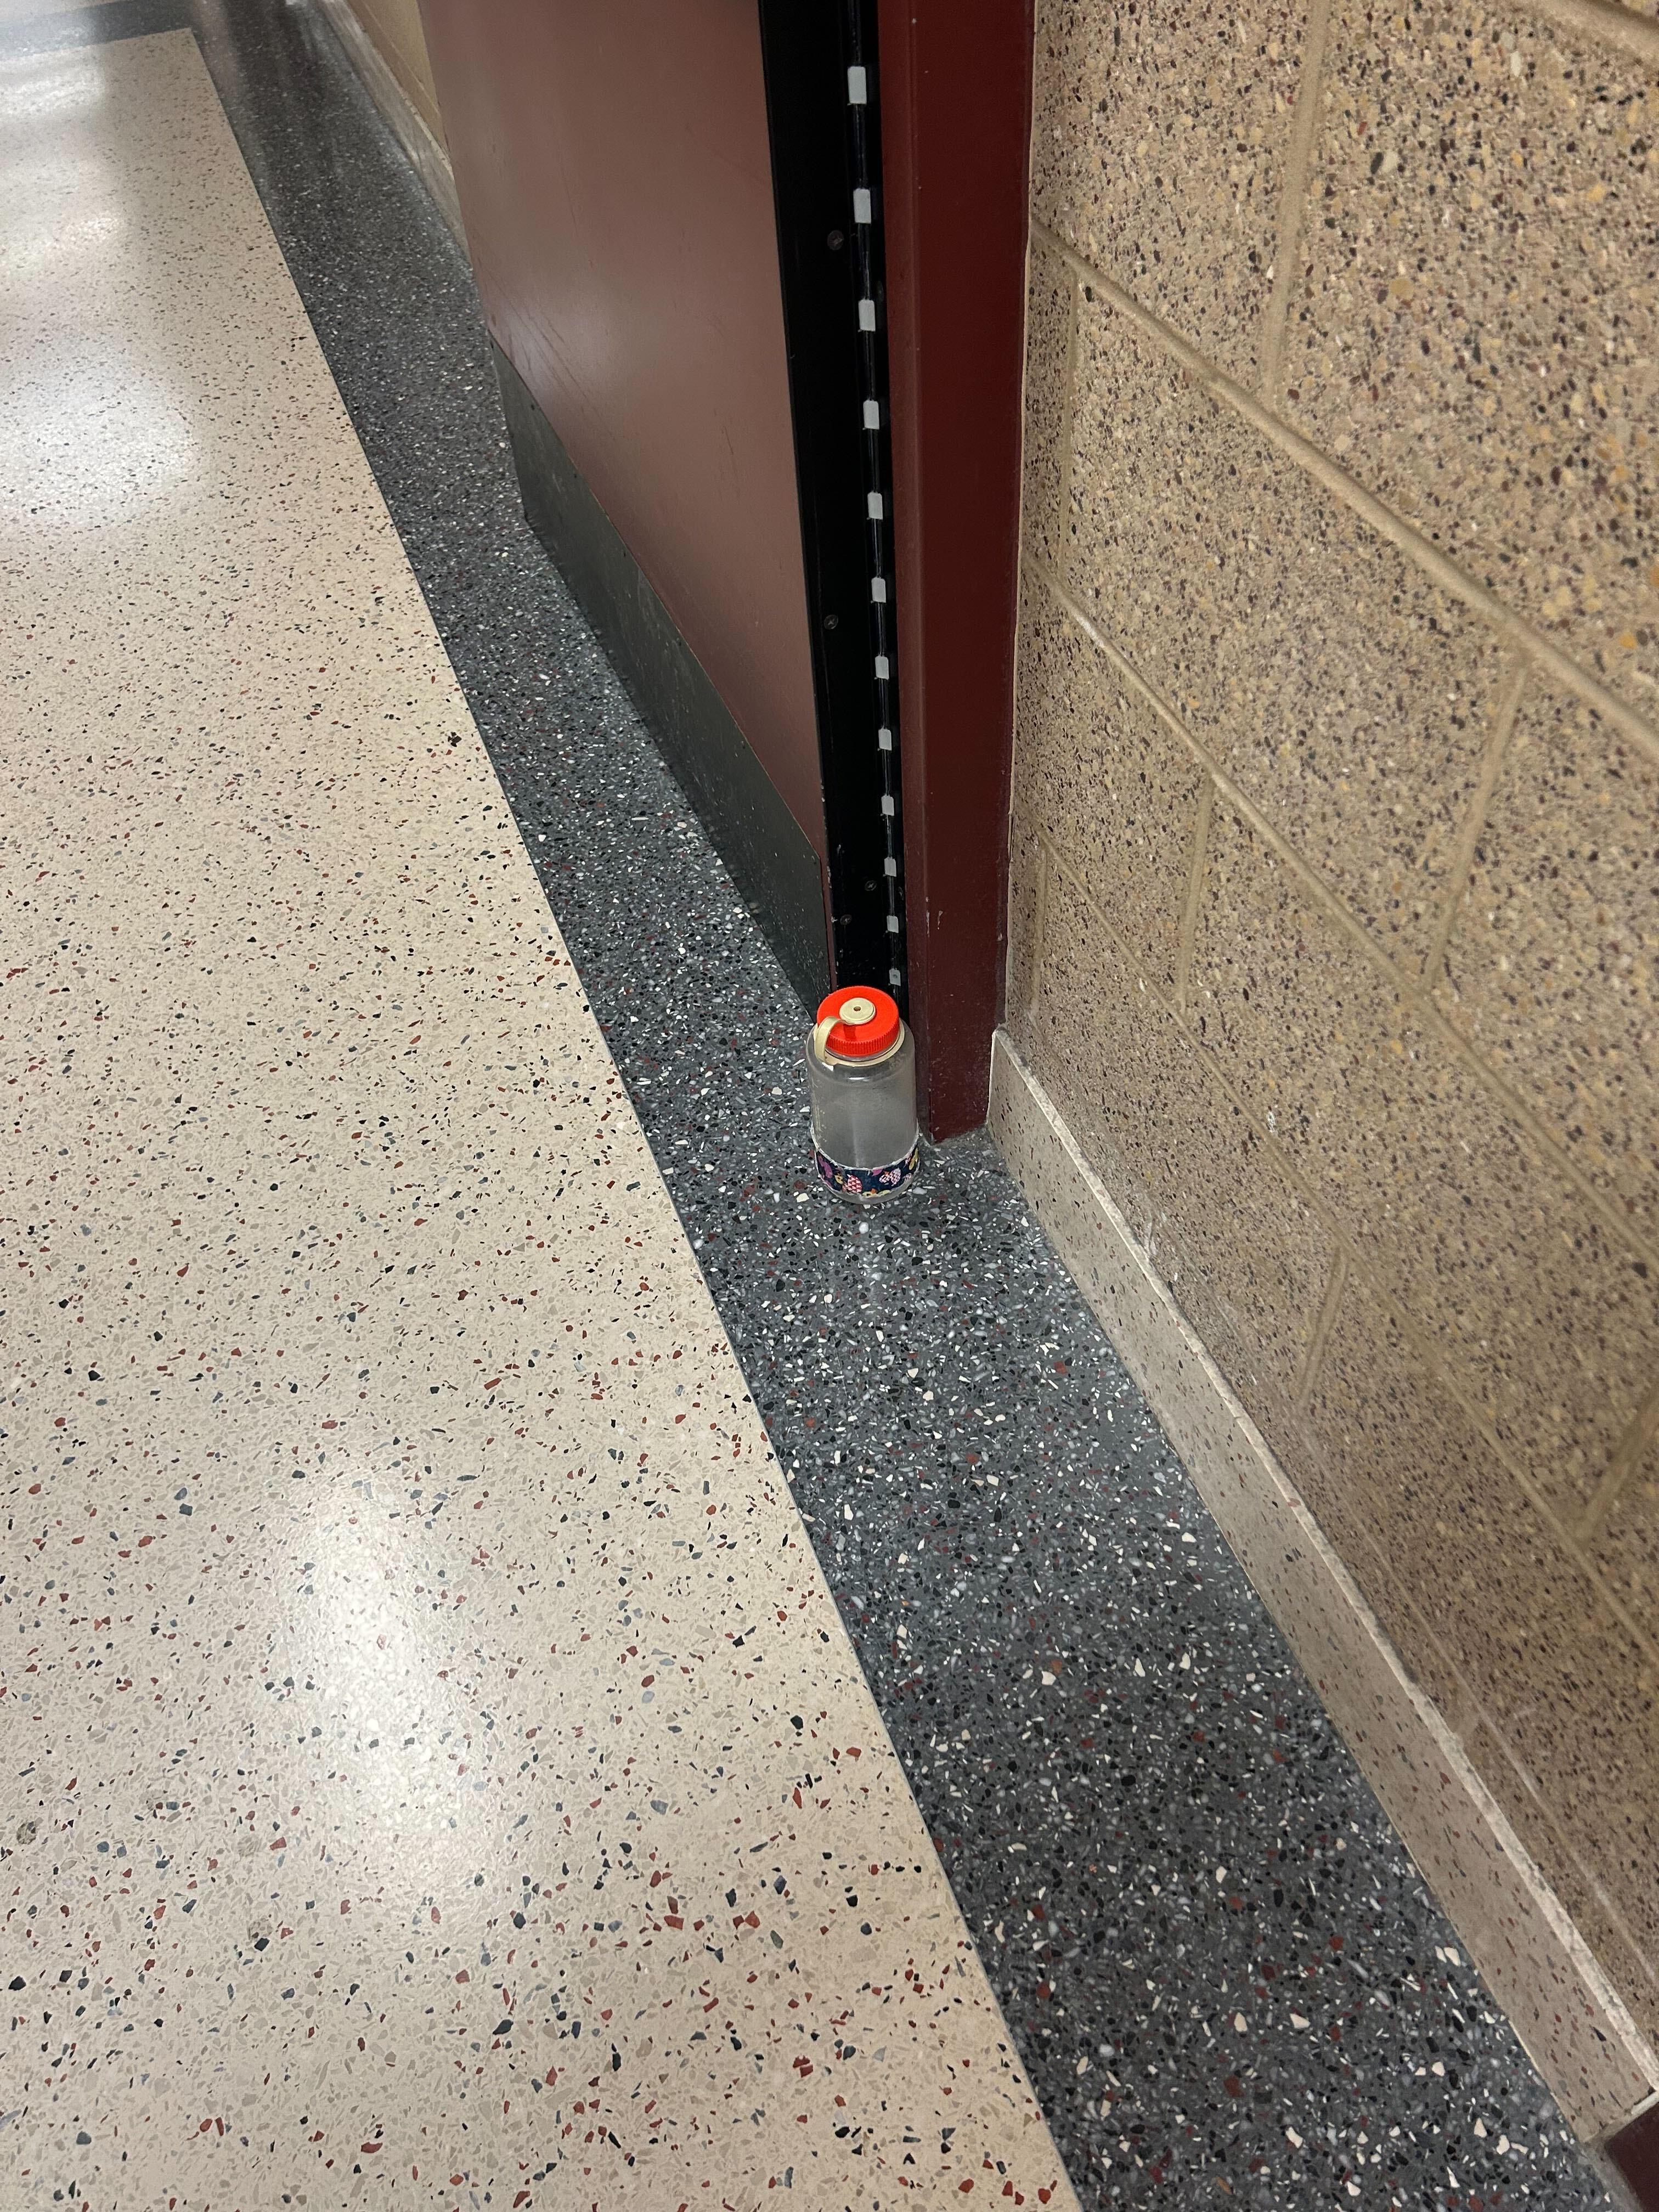bottle: (802, 972, 922, 1217)
